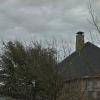Chimney: (69, 22, 86, 53)
